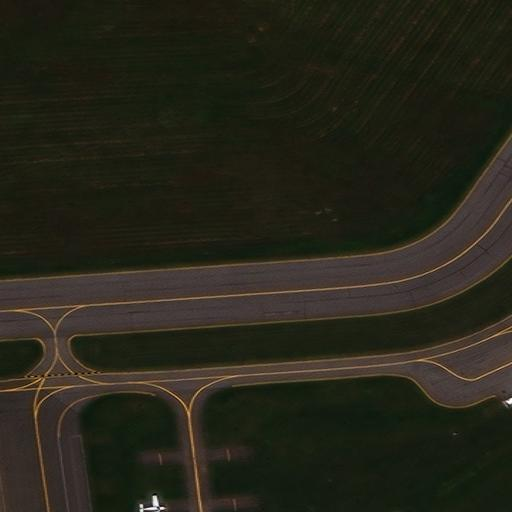Small Civil Transport: (138, 494, 166, 512)
